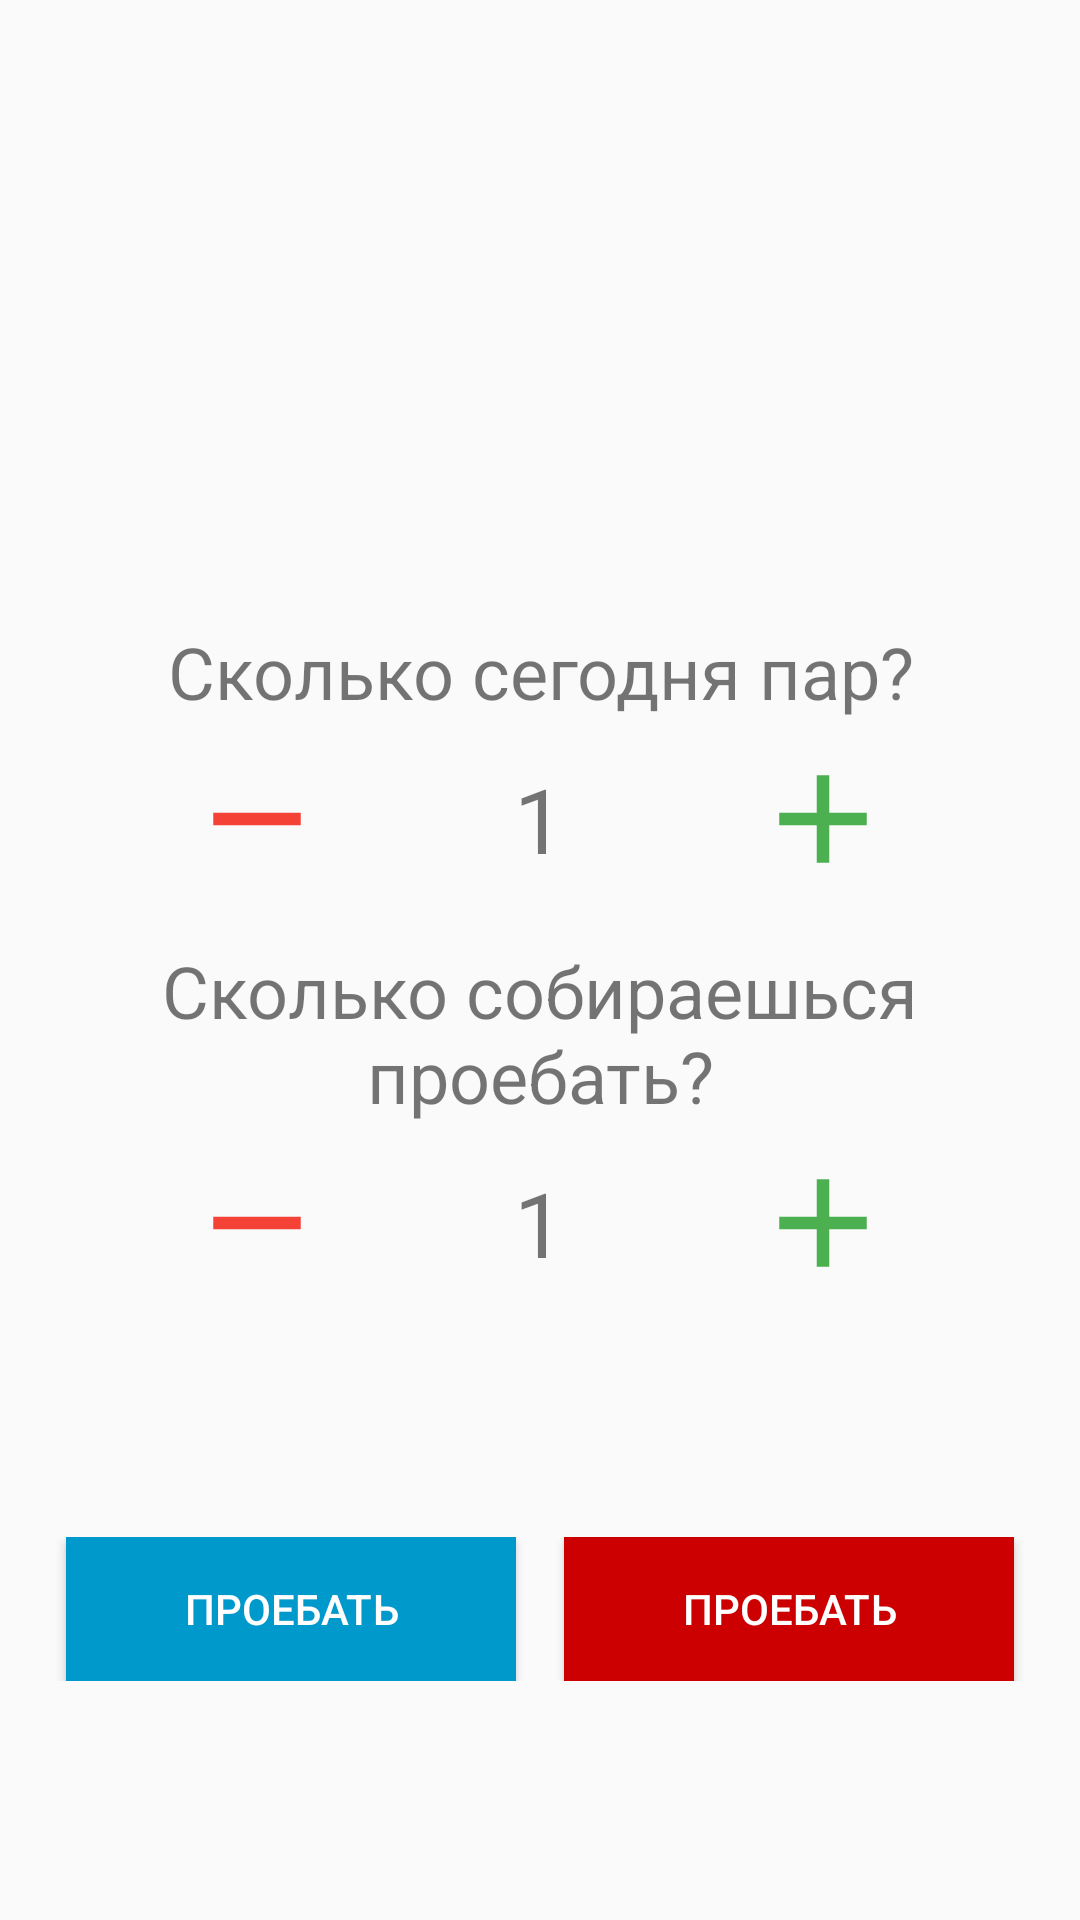

Icons on this 1080 × 1920 Android screen, each with the point to tap as (x,y):
plus: (823,819), (823,1223)
